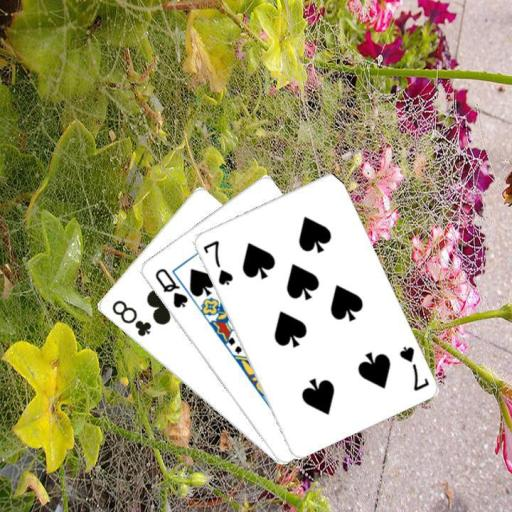7S: (199, 237, 235, 287), (396, 343, 431, 393)
8C: (108, 297, 153, 339)
QS: (152, 265, 189, 310)
